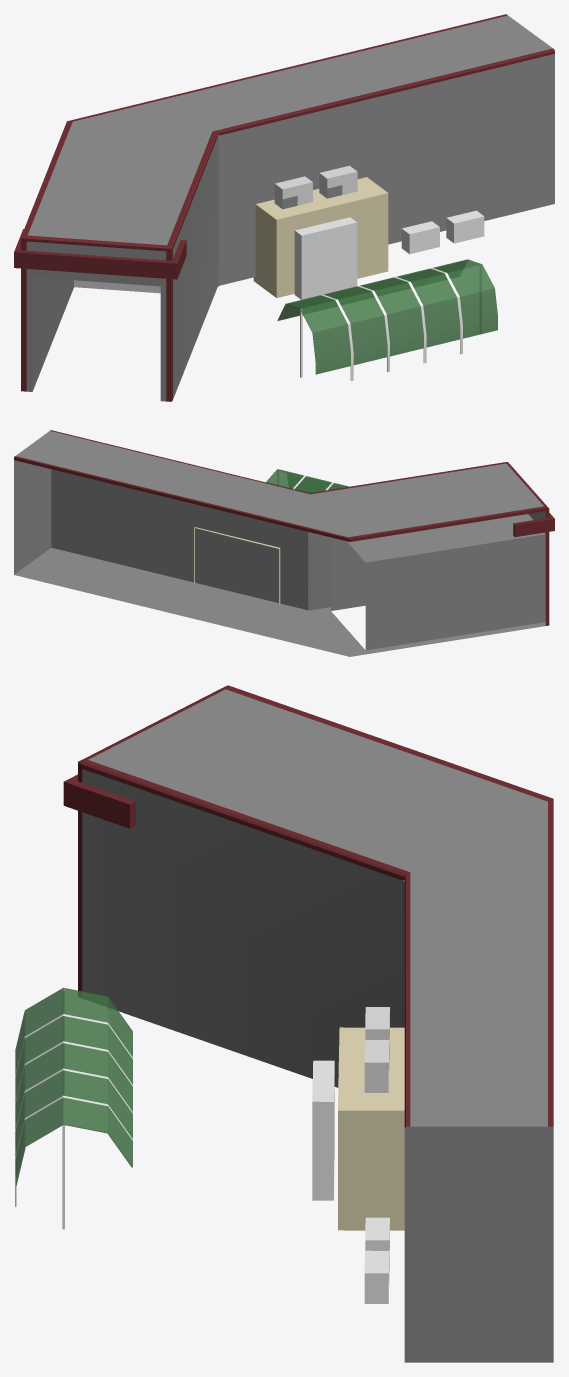
Rendered from Building04fbx.fbx.
3 views of the same model, one above another, from view 1: azimuth 30°, elevation 25°; view 2: azimuth 150°, elevation 25°; view 3: azimuth 270°, elevation 25° (orthographic). The views are drawn at different scales.
Visible parts, largest first — view 1: Building04; view 2: Building04; view 3: Building04.
Boxes of the visible parts, x1,y1,x2,y2 form: Building04: (14,14,554,401); Building04: (14,430,554,656); Building04: (15,685,553,1362).
Bounding box in the file's own units: 4864 × 2473 × 1238.
